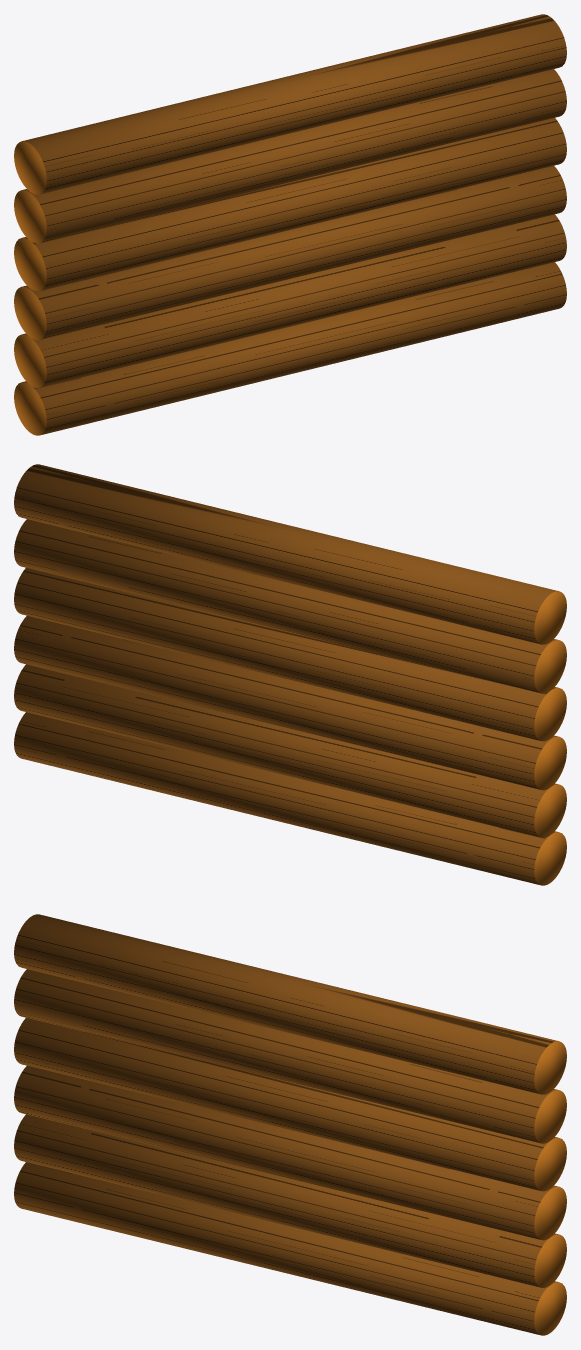
Rendered from Wall.fbx.
3 views of the same model, one above another, from view 1: azimuth 30°, elevation 25°; view 2: azimuth 150°, elevation 25°; view 3: azimuth 330°, elevation 25° (orthographic).
Visible parts, largest first — view 1: Wall; view 2: Wall; view 3: Wall.
Boxes of the visible parts, bbox=[...] form: Wall: bbox=[14, 14, 566, 435]; Wall: bbox=[14, 464, 566, 885]; Wall: bbox=[14, 914, 566, 1335].
Size of the model in its own units: 153 by 16.73 by 81.47.
2 materials, 1 textured.
